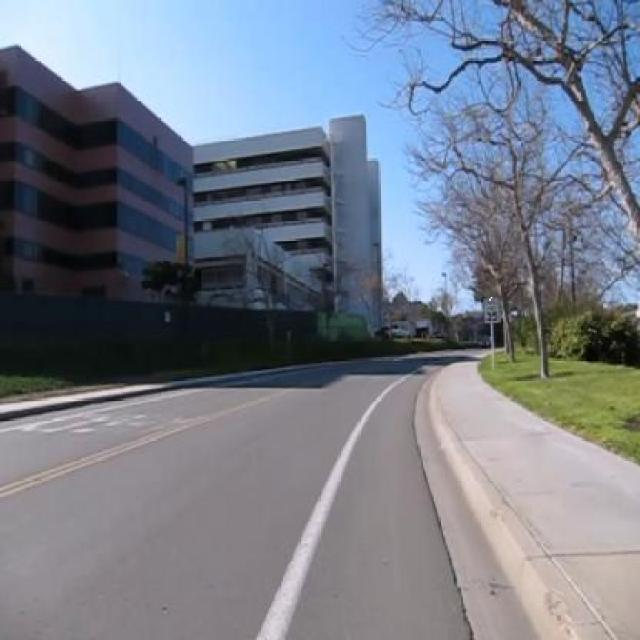speedLimit35: (483, 297, 500, 325)
